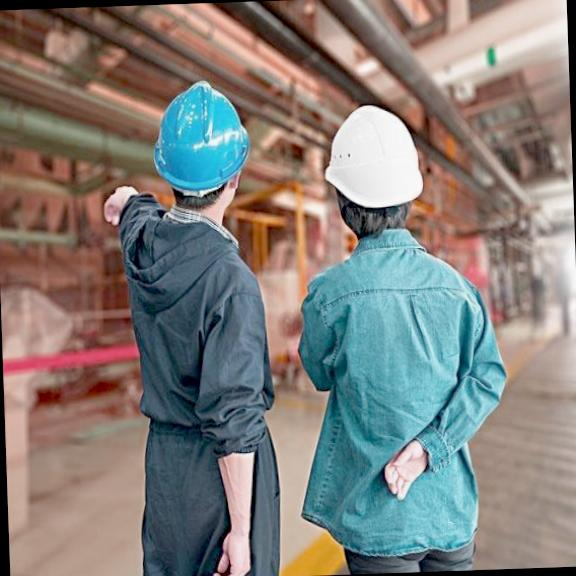no_safety_vest: (286, 224, 516, 552), (110, 196, 284, 444)
